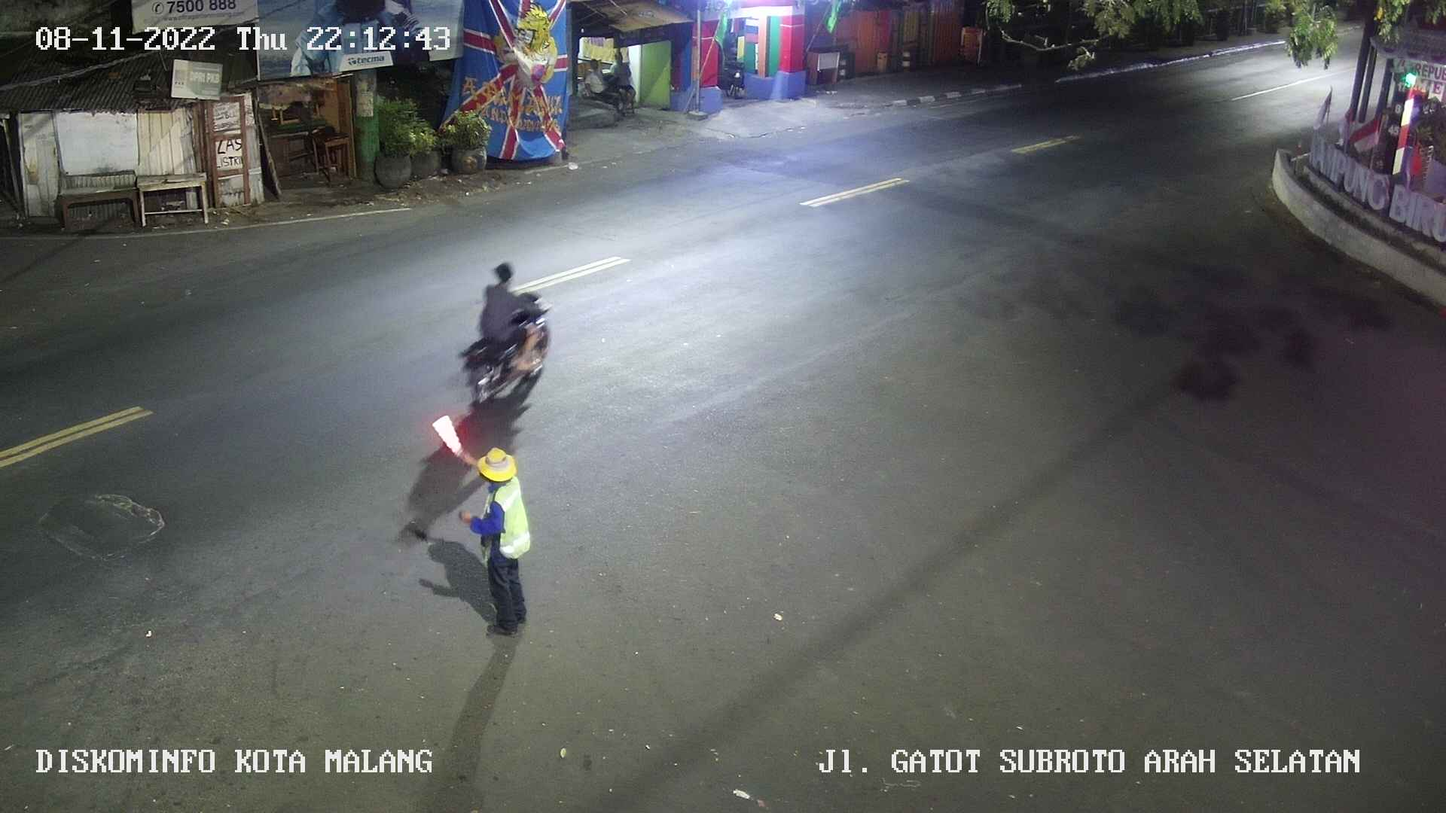without_helmet: (456, 255, 566, 417)
